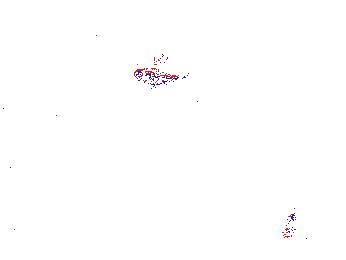X-ray fish: (84, 96, 132, 124)
red belly glassfish: (133, 66, 182, 86), (281, 213, 297, 239), (152, 52, 170, 67)
